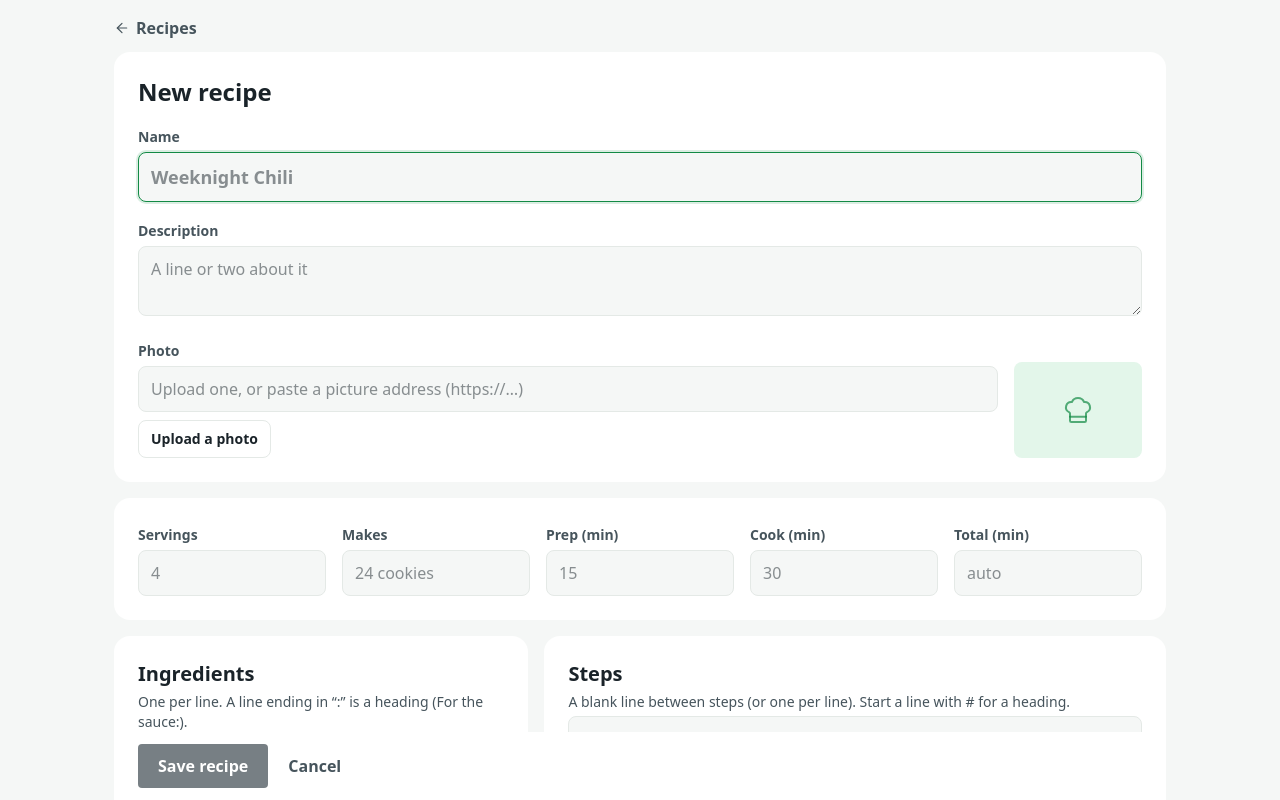
Test: adding a recipe by hand › a field the server refuses says why next to it, and keeps everything typed
Type "Pancakes" into the field labelled "Name".
click(640, 177); type("Pancakes")  # box [138,152,1142,202]
(page scrolled)
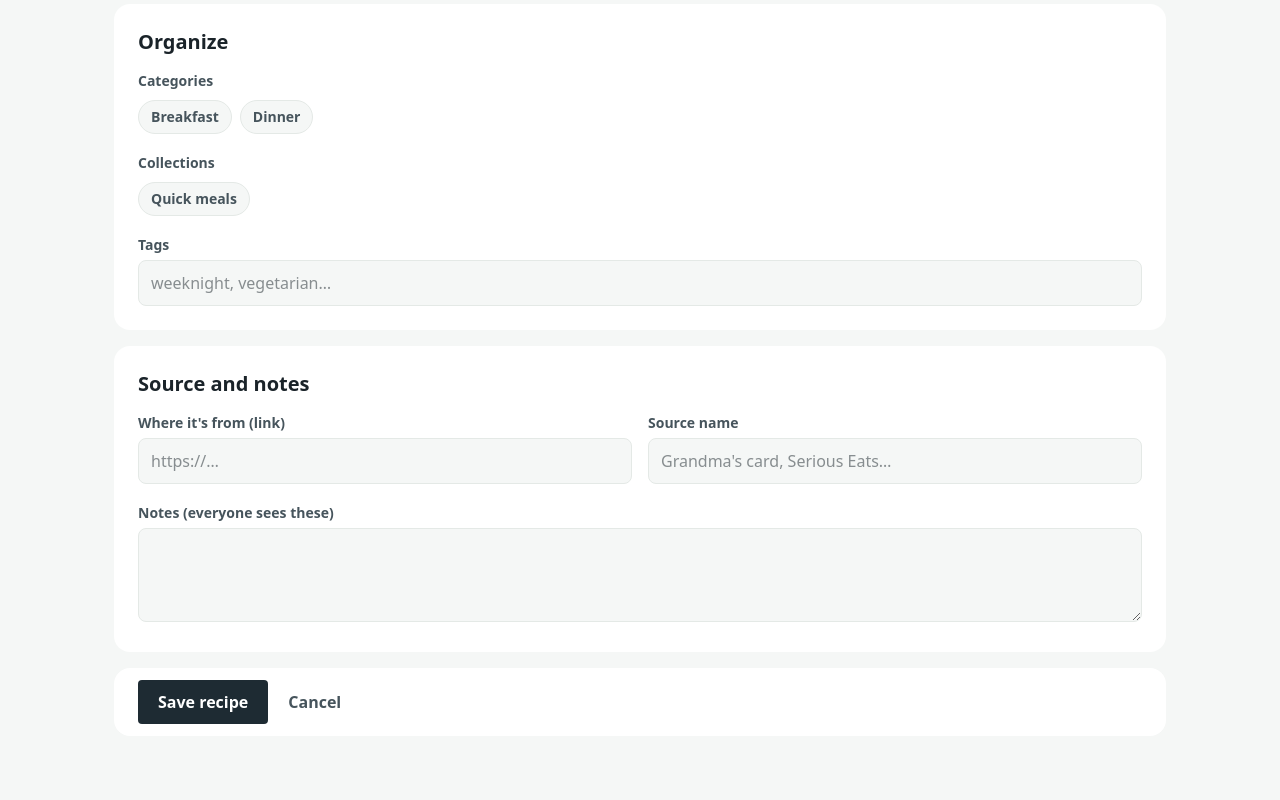
Type "my notebook" into the field named "Source link".
click(385, 460); type("my notebook")  # box [138,438,632,484]
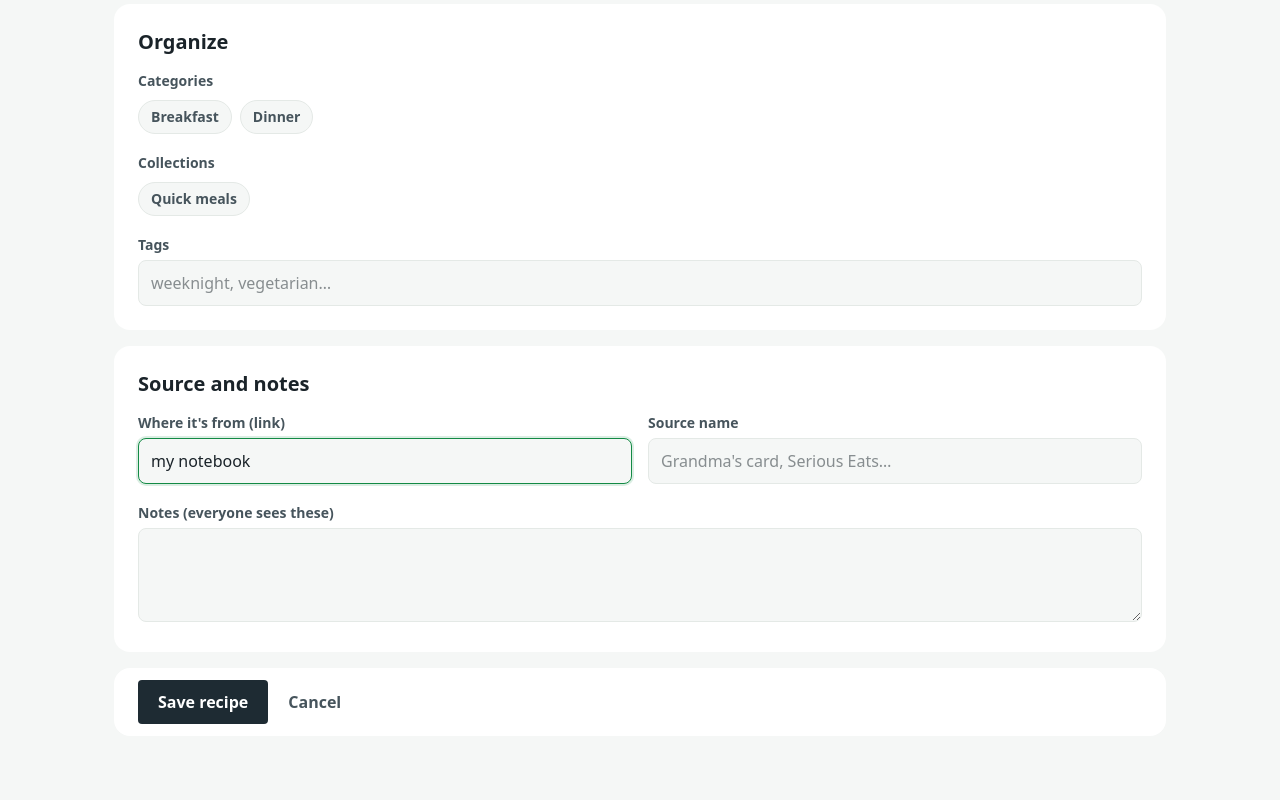
Click the button "Save recipe".
click(203, 702)  # box [138,680,268,724]
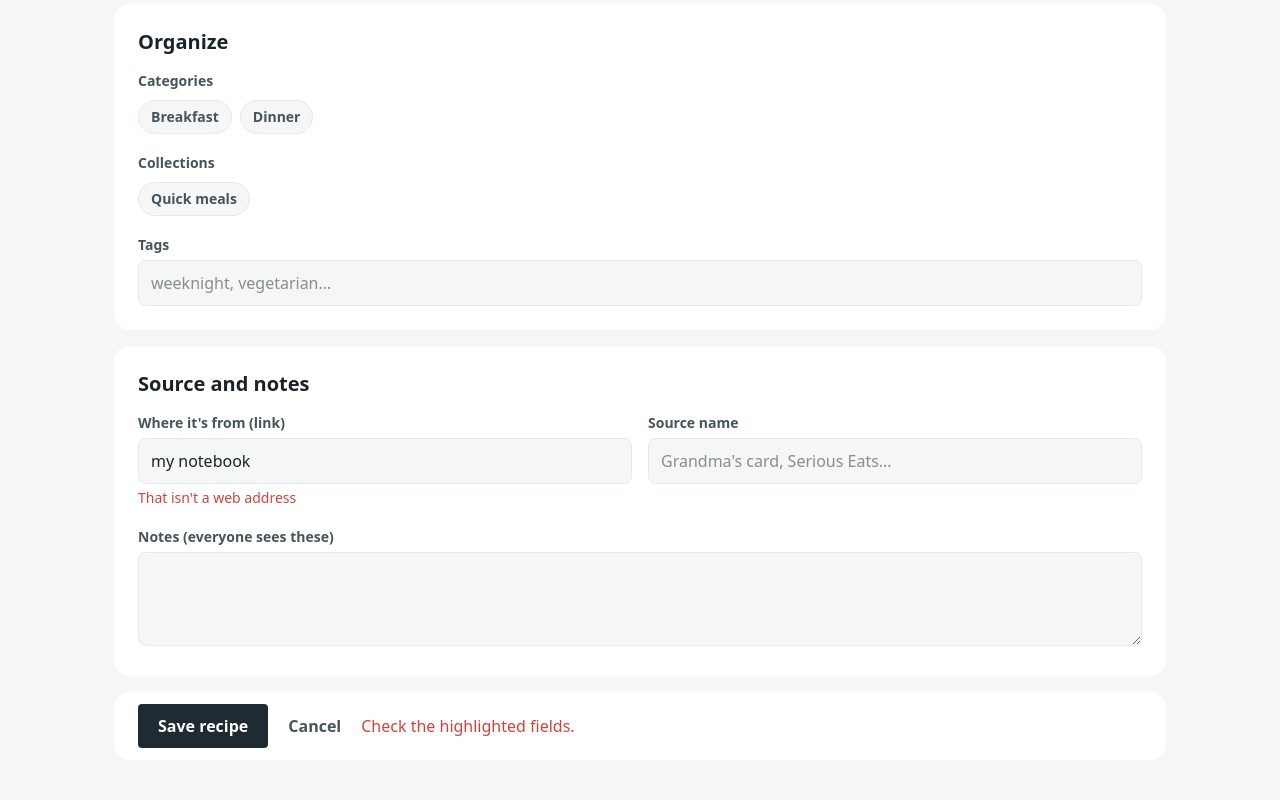
Expected: the button "Save recipe" is enabled, [138,704,268,748]
Expected: the text "That isn't a web address" is shown, [138,488,296,506]
